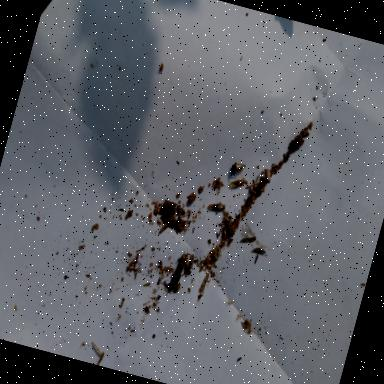pbw: (228, 170, 248, 192), (228, 160, 246, 180), (198, 270, 210, 294), (207, 199, 227, 213), (253, 252, 259, 264)
